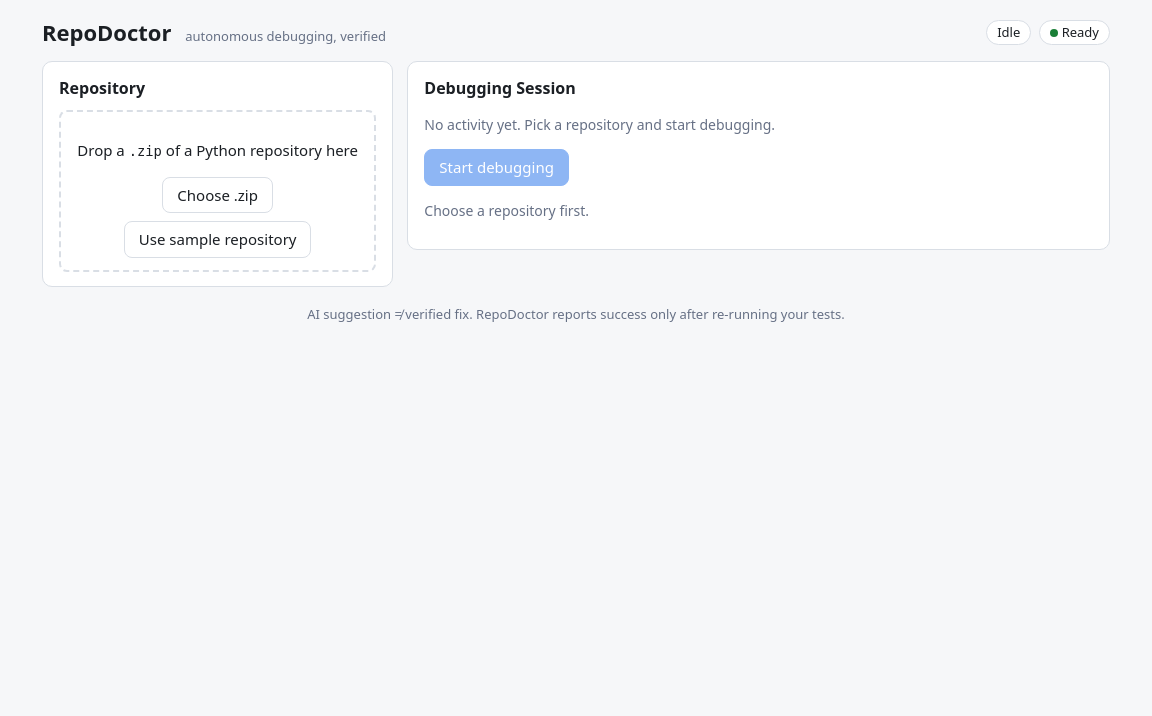
Test: never claiming more than was verified › explains that a passing repository has nothing to fix
Click the button "Use sample repository": (218, 239) [124,221,311,258]
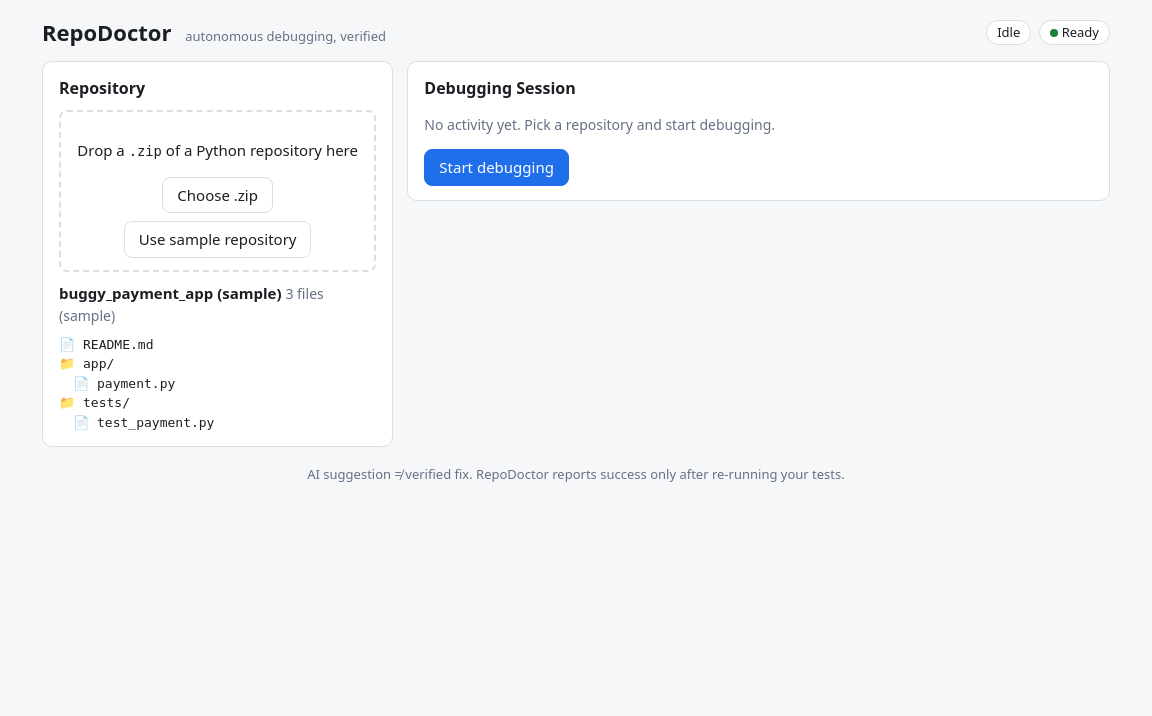
Expected: the list named "Repository files" is shown, [59,337,214,430]
Click the button "Start debugging": (497, 167) [424,149,569,186]
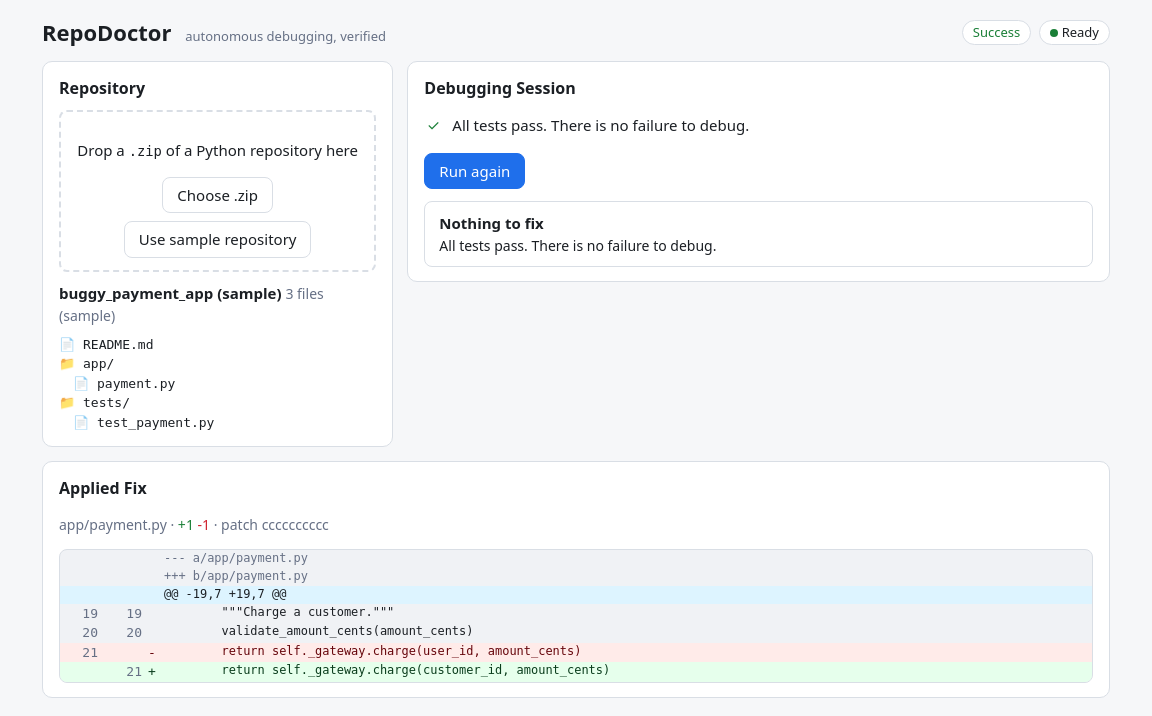
Expected: the message with test id "outcome" does not show "DEBUGGING COMPLETE", [424,201,1093,266]
Expected: the message with test id "outcome" shows "Nothing to fix", [439,213,544,233]
